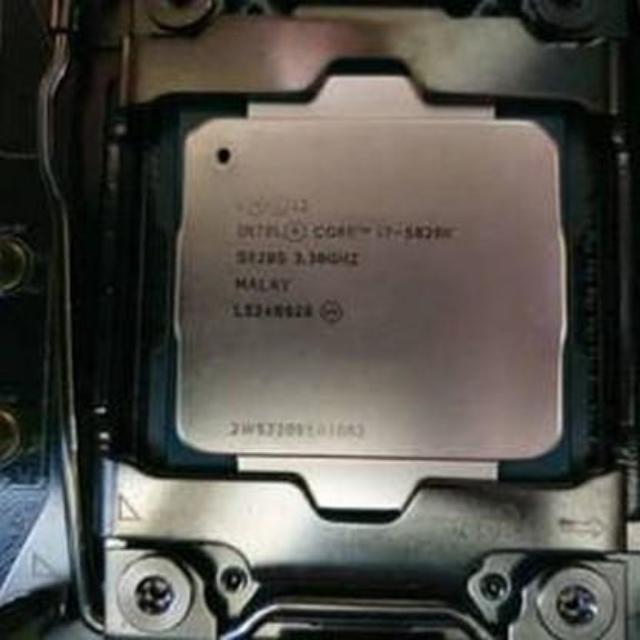CPU: (162, 82, 586, 504)
